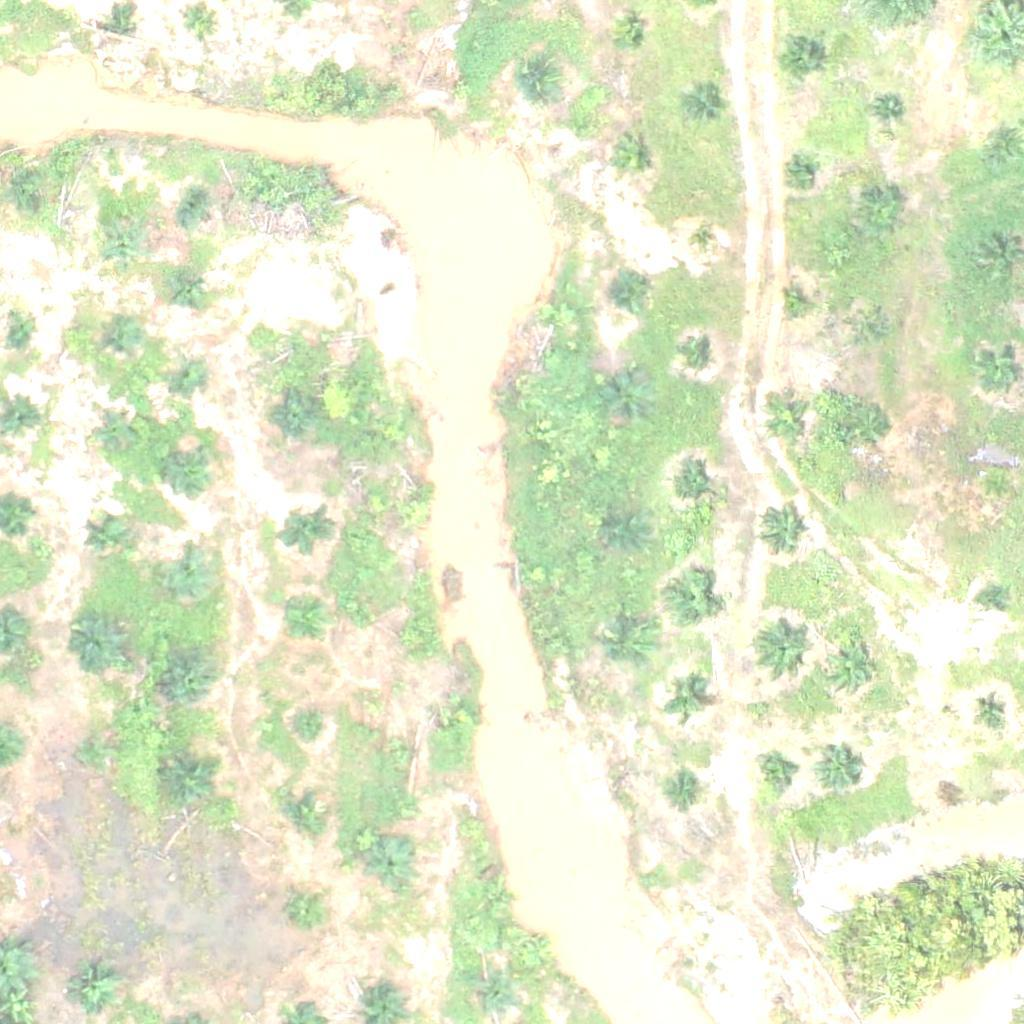Kelapa_Sawit: (63, 611, 126, 674), (160, 547, 223, 610), (818, 636, 881, 699), (752, 618, 814, 681), (167, 654, 217, 705), (166, 757, 216, 808), (848, 401, 898, 452), (277, 789, 327, 840), (761, 395, 811, 446), (607, 134, 657, 185), (168, 445, 218, 495), (468, 972, 518, 1022), (367, 841, 417, 891), (669, 466, 719, 516), (667, 575, 717, 625), (756, 508, 806, 558), (816, 744, 866, 794), (281, 509, 331, 559), (279, 599, 329, 649), (856, 190, 906, 240), (775, 30, 825, 80), (603, 374, 653, 424), (272, 394, 322, 444), (605, 625, 655, 675), (476, 879, 514, 917), (288, 890, 326, 928), (666, 680, 704, 718), (667, 771, 705, 809), (754, 754, 792, 792), (380, 731, 418, 769), (390, 618, 428, 656), (396, 493, 434, 531), (607, 275, 645, 313), (6, 311, 44, 349), (174, 353, 212, 391), (174, 266, 212, 304), (173, 191, 211, 229), (973, 691, 1010, 729), (444, 693, 481, 731), (977, 467, 1015, 504), (851, 312, 889, 349), (610, 19, 648, 56), (607, 513, 644, 551), (180, 6, 217, 44), (2, 395, 40, 432), (17, 191, 54, 229), (102, 228, 139, 266), (107, 320, 144, 358), (97, 416, 134, 454), (78, 733, 115, 771), (290, 712, 327, 749), (686, 91, 723, 128), (518, 63, 555, 100), (88, 520, 125, 557), (103, 12, 128, 38), (979, 588, 1004, 613), (787, 161, 812, 186), (780, 291, 805, 316), (692, 230, 717, 255), (686, 342, 711, 367), (875, 97, 899, 122)
